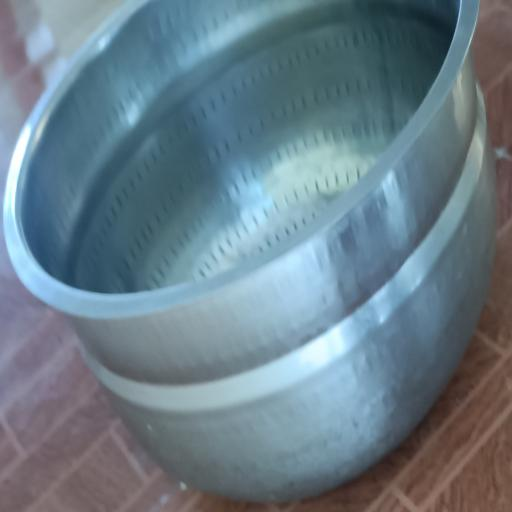vessel: (4, 0, 495, 499)
